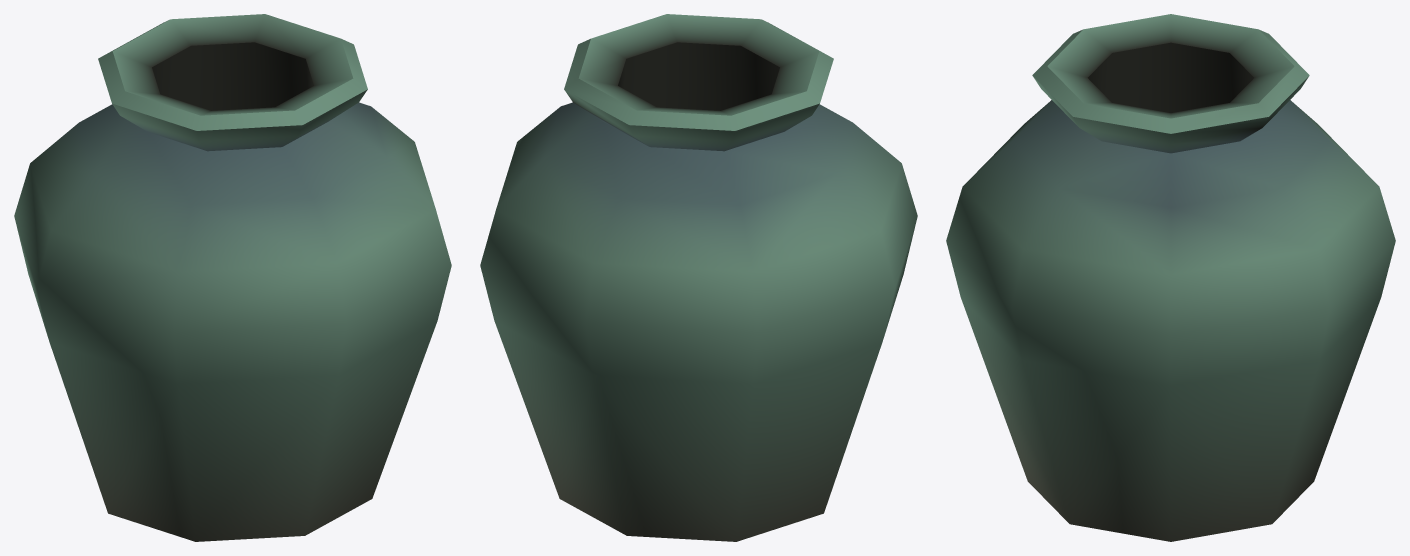
File: SM_Pot_B.fbx
3 views of the same model, side by side, from view 1: azimuth 30°, elevation 25°; view 2: azimuth 150°, elevation 25°; view 3: azimuth 270°, elevation 25° (orthographic).
Parts seen in each view (by area): view 1: Cube.062; view 2: Cube.062; view 3: Cube.062.
Boxes of the visible parts, x1,y1,x2,y2 form: Cube.062: (14,14,451,541); Cube.062: (480,14,917,541); Cube.062: (946,14,1395,541).
Size of the model in its own units: 86.21 by 87.81 by 86.21.
